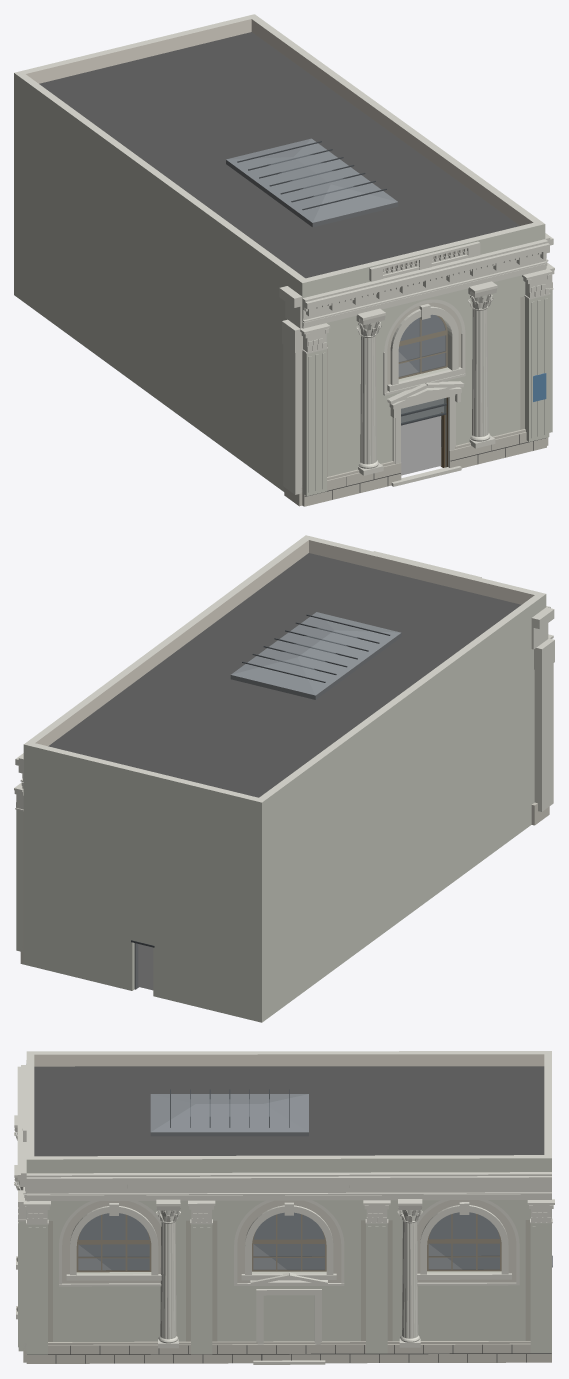
File: exterior.glb
The picture shows the model from 3 angles, top to bottom: view 1: azimuth 30°, elevation 25°; view 2: azimuth 150°, elevation 25°; view 3: azimuth 270°, elevation 25°; orthographic projection. The views are drawn at different scales.
Parts seen in each view (by area): view 1: shell, roof, skylight, temple-r7-1, relief-1, temple-r11-1, trim, temple-1, shadow-proxy, party-return-0, plinth-1, temple-glass-1 (+3 smaller); view 2: shell, roof, skylight, party-return-0, relief-2, shadow-proxy; view 3: shell, roof, temple-r7-2, relief-2, trim, plinth-2, temple-glass-2, shadow-proxy, temple-2, temple-r10-glass-2, skylight, temple-r11-2 (+2 smaller).
Boxes of the visible parts, x1,y1,x2,y2 form: shell: [14, 14, 545, 491]; roof: [39, 32, 519, 278]; skylight: [226, 138, 398, 227]; temple-r7-1: [300, 259, 552, 486]; relief-1: [302, 295, 549, 496]; temple-r11-1: [356, 281, 497, 475]; trim: [302, 233, 553, 318]; temple-1: [369, 241, 480, 417]; shadow-proxy: [398, 315, 444, 475]; party-return-0: [279, 286, 302, 506]; plinth-1: [302, 429, 546, 506]; temple-glass-1: [399, 315, 445, 377]; shell: [23, 535, 546, 1022]; roof: [48, 553, 521, 797]; skylight: [230, 612, 401, 699]; party-return-0: [531, 607, 554, 825]; relief-2: [16, 809, 23, 952]; shadow-proxy: [138, 944, 153, 990]; shell: [26, 1051, 551, 1341]; roof: [34, 1066, 544, 1156]; temple-r7-2: [23, 1190, 554, 1364]; relief-2: [26, 1223, 551, 1354]; trim: [17, 1065, 551, 1191]; plinth-2: [26, 1341, 551, 1363]; temple-glass-2: [78, 1212, 499, 1270]; shadow-proxy: [78, 1212, 499, 1270]; temple-2: [66, 1202, 511, 1280]; temple-r10-glass-2: [79, 1213, 499, 1270]; skylight: [150, 1089, 308, 1136]; temple-r11-2: [156, 1199, 422, 1348].
Size of the model in its own units: 12.21 by 9.97 by 23.91.
